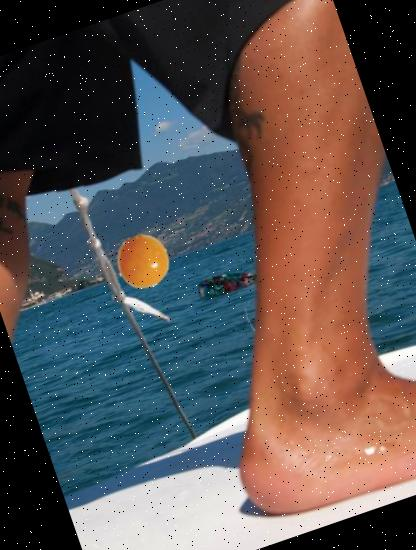Physalis: (110, 228, 177, 295)
